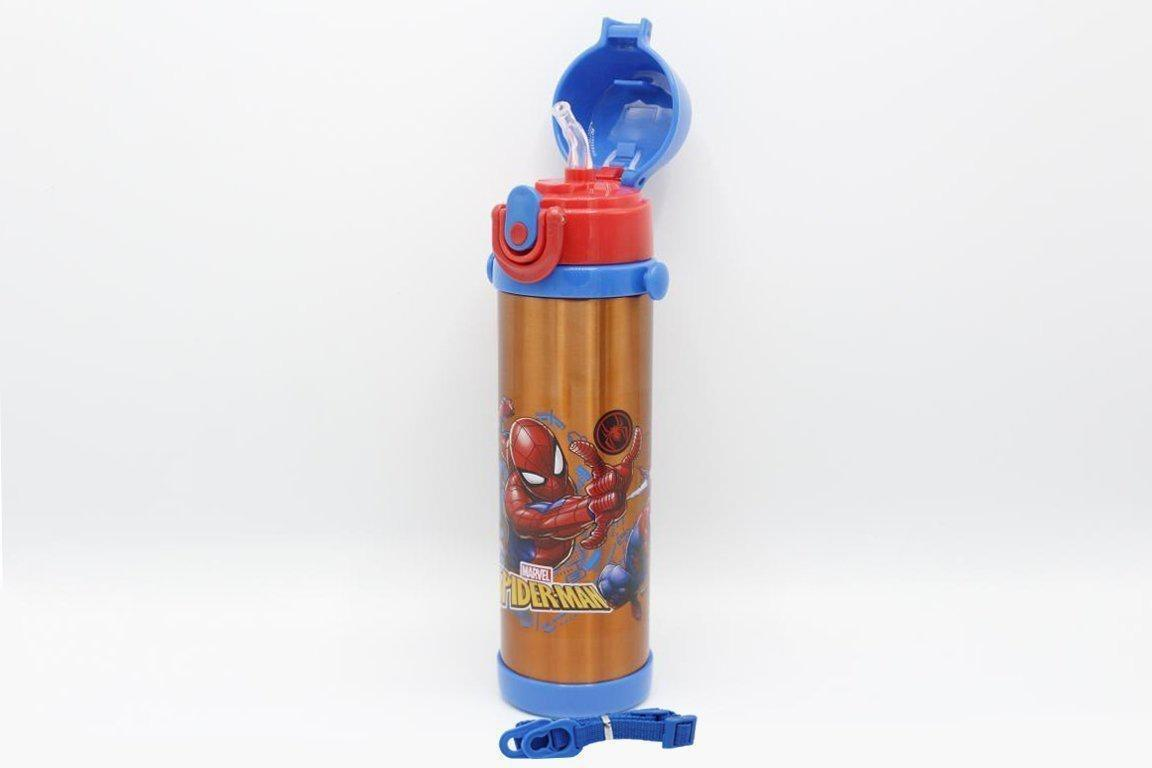gym bottle: (481, 15, 692, 720)
